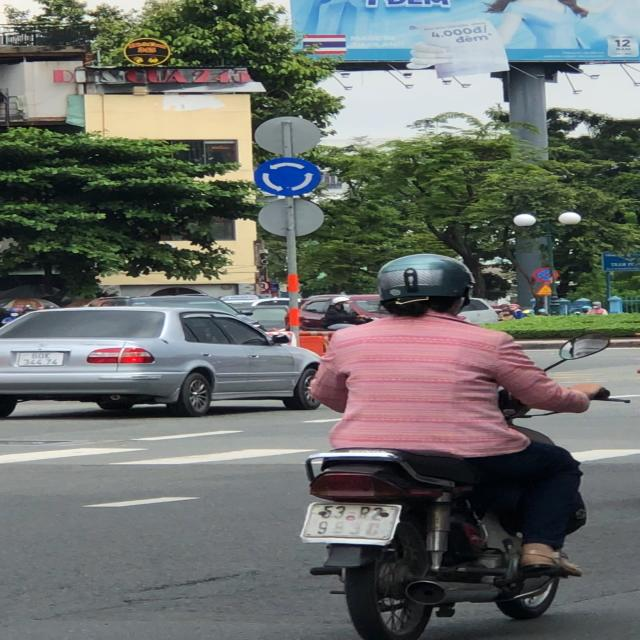Bien bao noi giao nhau chay theo vong xuyen: (252, 155, 324, 198)
